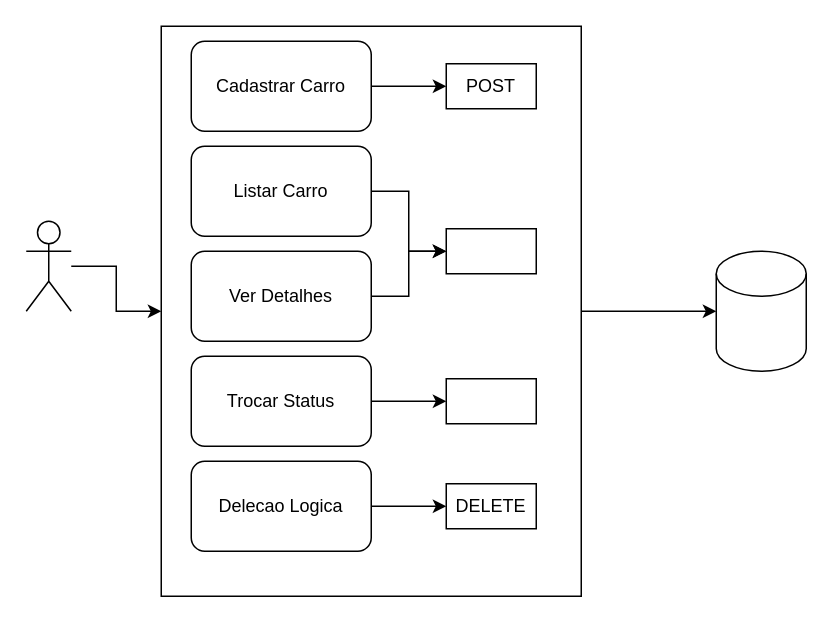
Image size: 833x623. Some labels were removed from this diagram. Here are the shapes that lost their labels. From the top down, the centre of each, then its label:
(x=48, y=265): Actor
(x=490, y=250): GET
(x=760, y=310): Base de cadastro
(x=490, y=400): PUT
